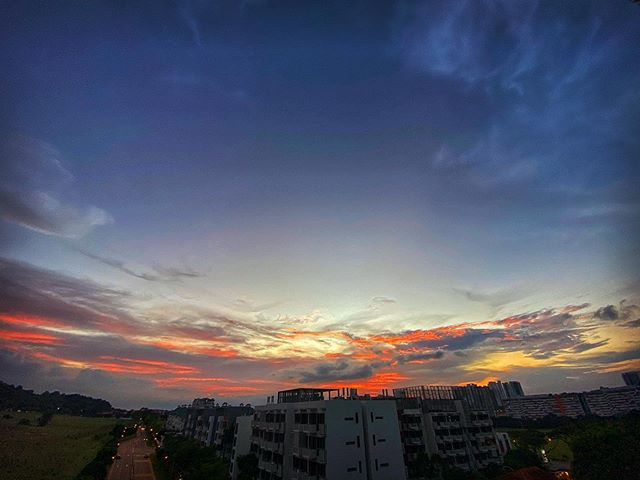building: (258, 392, 400, 480), (402, 378, 499, 480), (499, 385, 640, 425), (166, 399, 243, 468)
sky: (1, 1, 640, 371)
